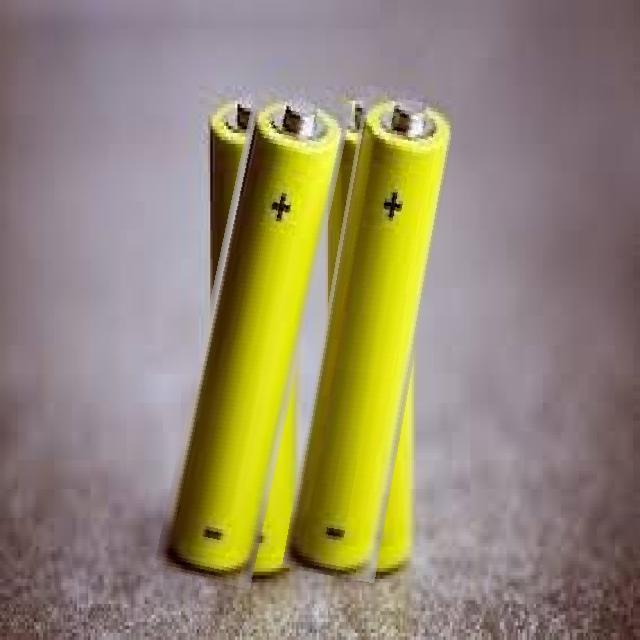Battery: (149, 90, 345, 603), (287, 98, 456, 577), (204, 90, 264, 305), (244, 369, 301, 580), (376, 367, 416, 572)
